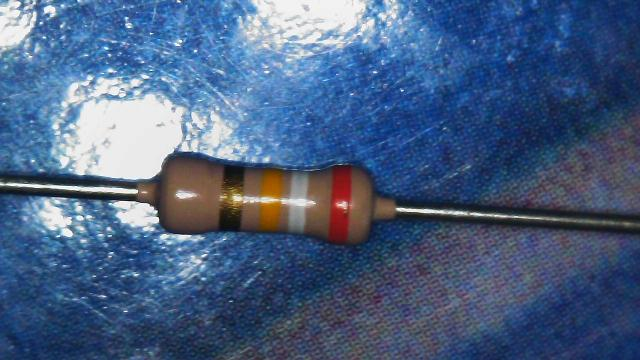gold: (219, 165, 244, 231)
orange: (328, 164, 352, 243)
resistor: (142, 129, 394, 271)
white: (286, 171, 313, 232)
yellow: (259, 168, 282, 232)
